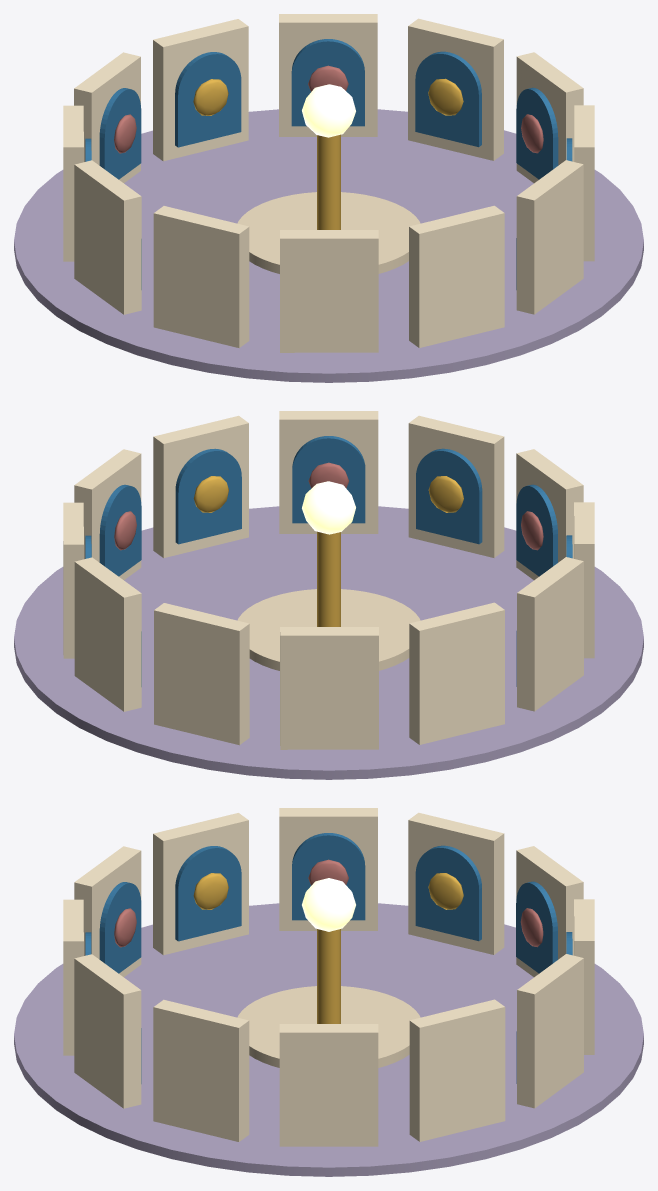
File: zodiac.glb
The picture shows the model from 3 angles, top to bottom: view 1: azimuth 30°, elevation 25°; view 2: azimuth 150°, elevation 25°; view 3: azimuth 270°, elevation 25°; orthographic projection.
Bounding box in the file's own units: 3.7 × 1.06 × 3.7.
